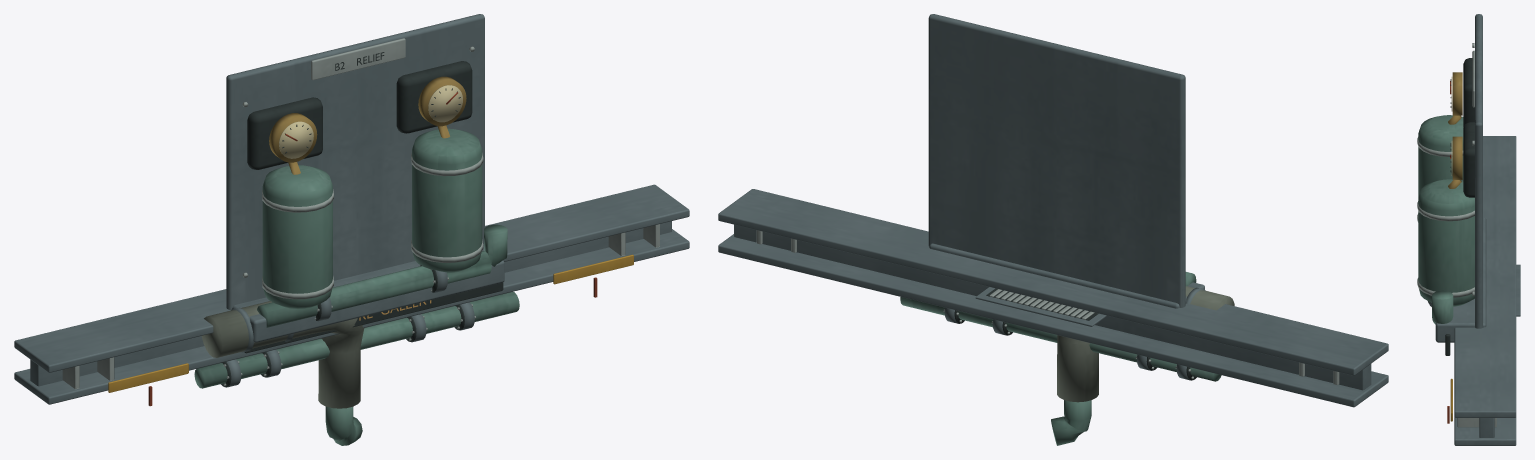
File: boiler-plant.glb
3 views of the same model, side by side, from view 1: azimuth 30°, elevation 25°; view 2: azimuth 150°, elevation 25°; view 3: azimuth 270°, elevation 25° (orthographic). The views are drawn at different scales.
Parts seen in each view (by area): view 1: ReliefSkid :: Pressure plant corrosion atlas, Gantry :: Pressure plant corrosion atlas, SteamSaddle :: Pressure plant corrosion atlas; view 2: ReliefSkid :: Pressure plant corrosion atlas, Gantry :: Pressure plant corrosion atlas, SteamSaddle :: Pressure plant corrosion atlas, SumpGrate :: Pressure plant corrosion atlas; view 3: ReliefSkid :: Pressure plant corrosion atlas, Gantry :: Pressure plant corrosion atlas, SumpGrate :: Pressure plant corrosion atlas.
Part boxes in pixels (x1=…): ReliefSkid :: Pressure plant corrosion atlas: x1=226, y1=14, x2=507, y2=342; Gantry :: Pressure plant corrosion atlas: x1=14, y1=184, x2=689, y2=406; SteamSaddle :: Pressure plant corrosion atlas: x1=194, y1=291, x2=519, y2=445; ReliefSkid :: Pressure plant corrosion atlas: x1=928, y1=14, x2=1204, y2=308; Gantry :: Pressure plant corrosion atlas: x1=718, y1=189, x2=1388, y2=407; SteamSaddle :: Pressure plant corrosion atlas: x1=900, y1=286, x2=1234, y2=445; SumpGrate :: Pressure plant corrosion atlas: x1=975, y1=287, x2=1106, y2=326; ReliefSkid :: Pressure plant corrosion atlas: x1=1417, y1=14, x2=1486, y2=342; Gantry :: Pressure plant corrosion atlas: x1=1445, y1=136, x2=1516, y2=445; SumpGrate :: Pressure plant corrosion atlas: x1=1516, y1=264, x2=1520, y2=316.
Size of the model in its own units: 4.64 by 2.76 by 0.734.
Materials: 2 (1 with a texture image).
